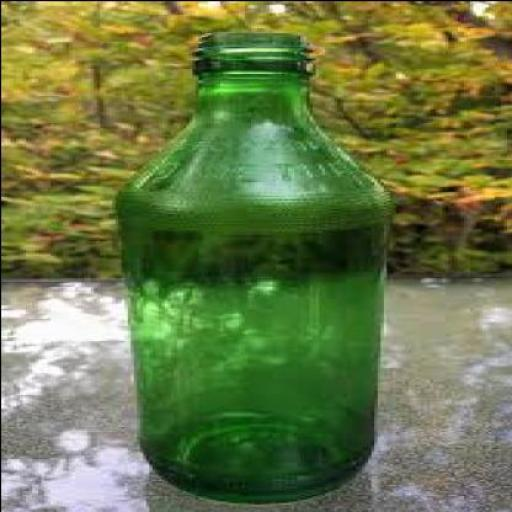glass: (108, 28, 386, 498)
